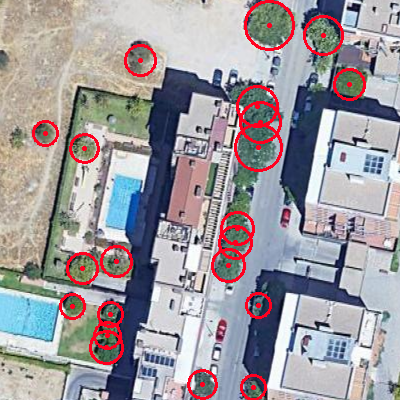tree: (243, 1, 296, 49), (235, 125, 275, 187), (232, 85, 285, 124), (302, 12, 342, 55), (218, 216, 256, 252), (216, 248, 250, 284), (191, 366, 223, 400), (68, 251, 99, 286), (226, 189, 261, 218), (68, 133, 99, 162), (238, 372, 270, 400), (94, 340, 125, 364), (32, 119, 58, 147), (123, 92, 149, 120), (61, 292, 89, 316), (94, 320, 125, 340), (100, 299, 126, 322), (23, 260, 45, 282)
